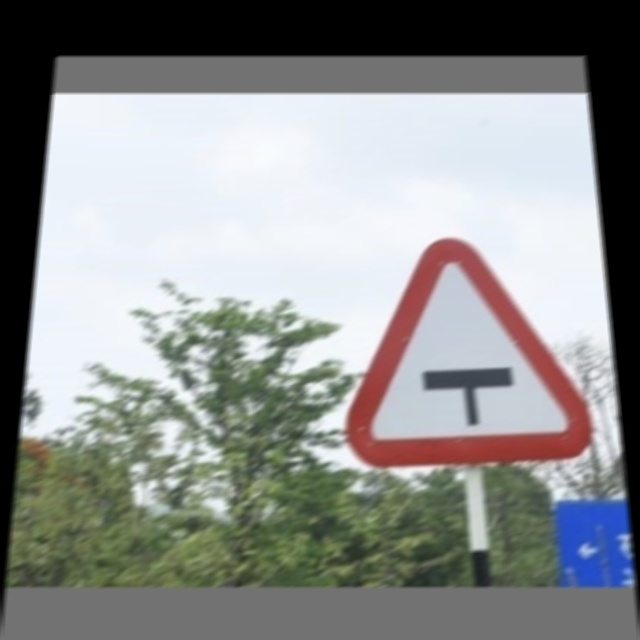T_Intersection: (332, 229, 603, 474)
